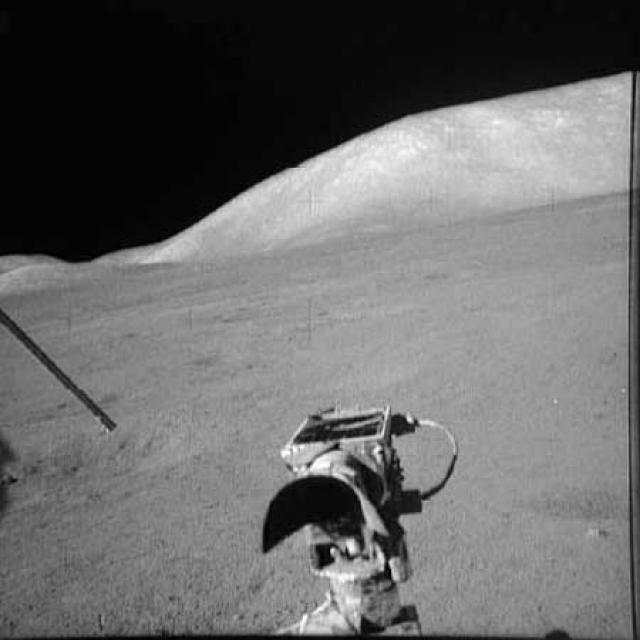artifact: (234, 380, 476, 638), (2, 283, 124, 436)
crater: (0, 409, 210, 527), (537, 472, 631, 538)
